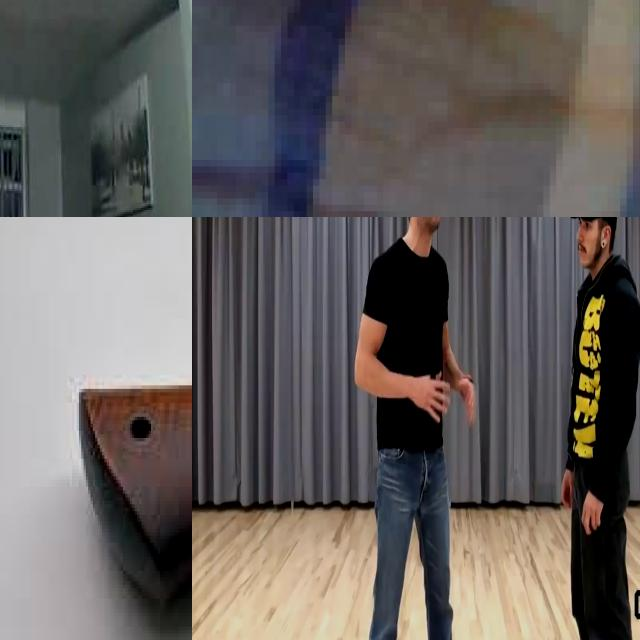Knife_Handle: (413, 322, 450, 423)
